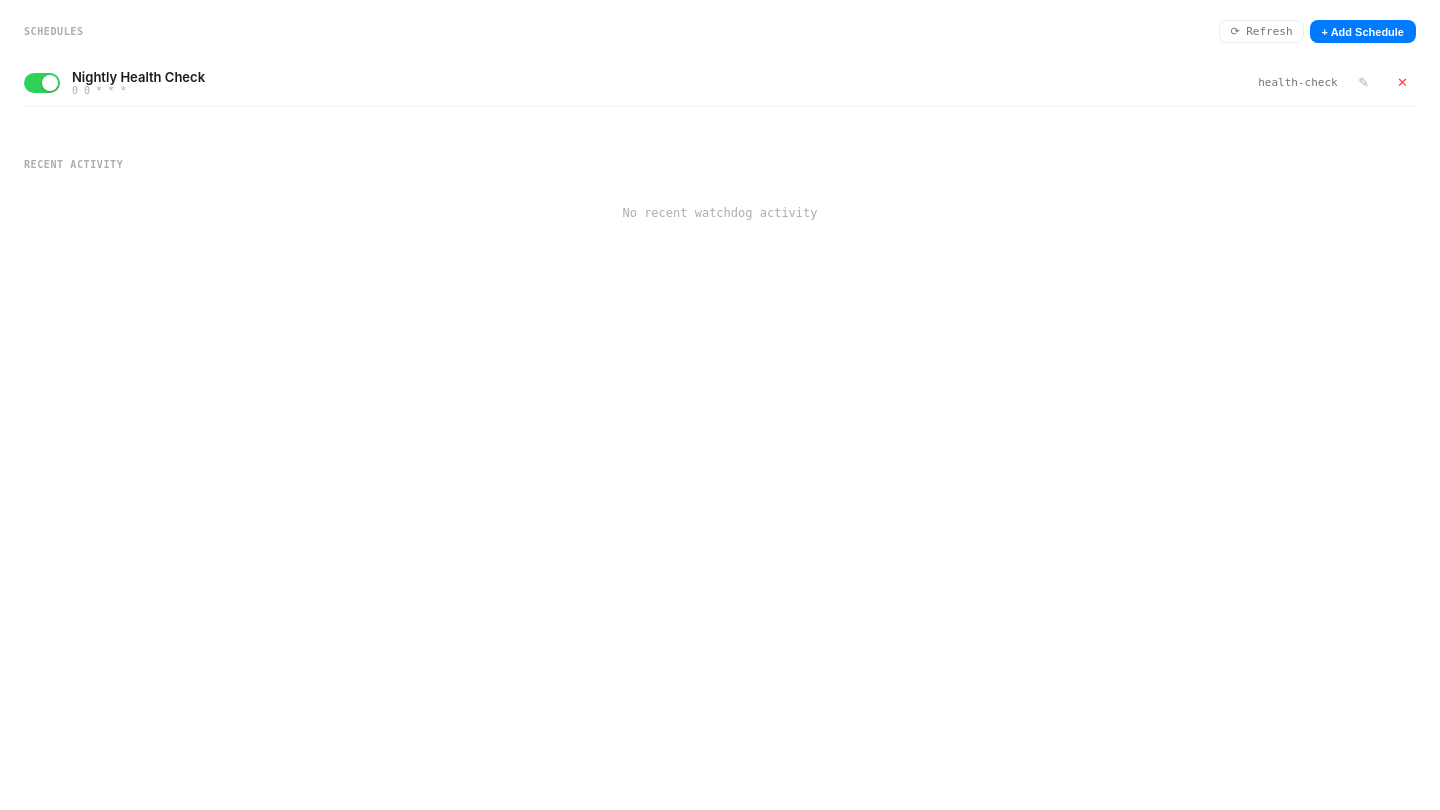
Test: WatchDogPage › cancels delete
Click the button with test id "schedule-delete-s1".
click(1403, 82)  # box [1389,71,1416,94]
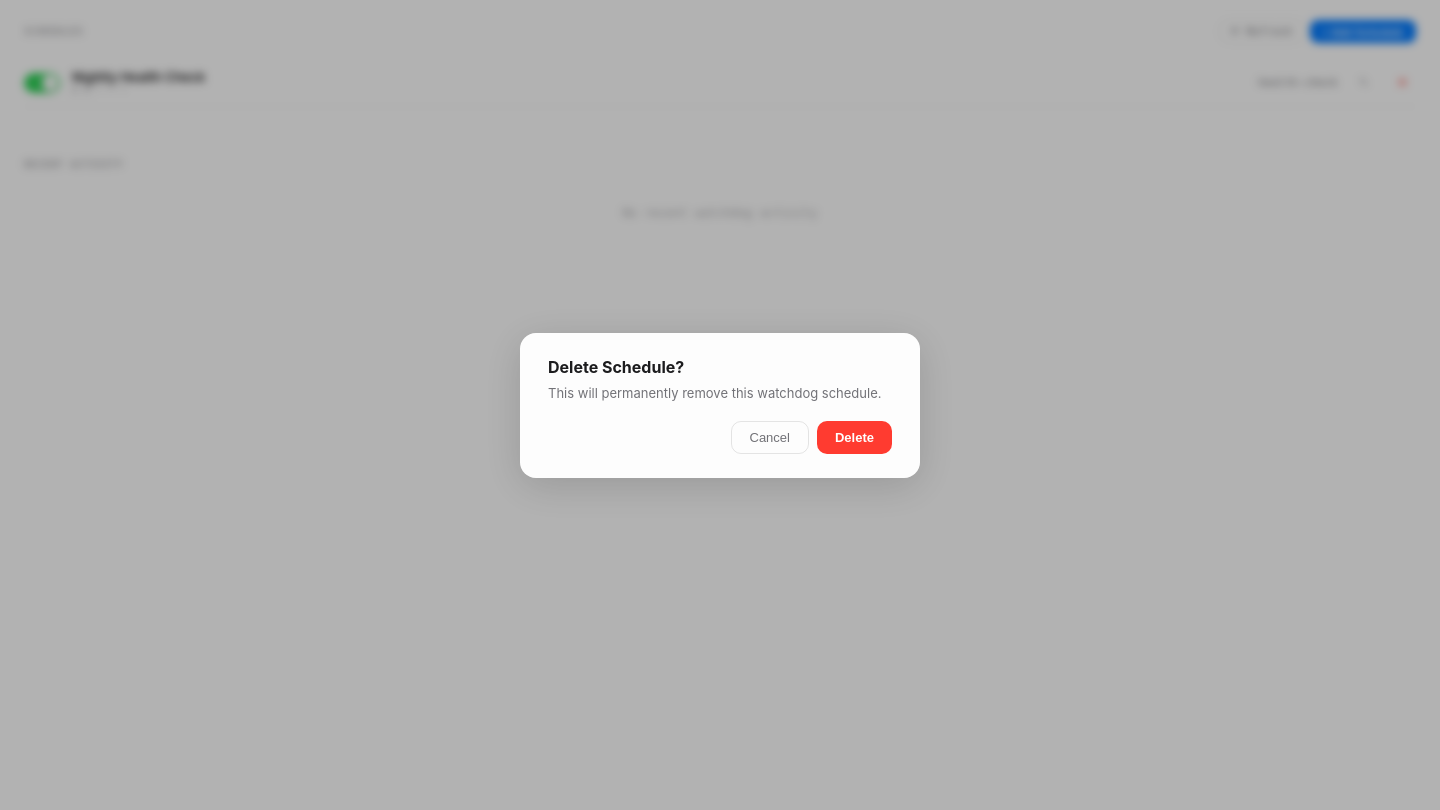
Click the button with test id "delete-cancel-btn".
click(770, 437)  # box [730,420,809,454]
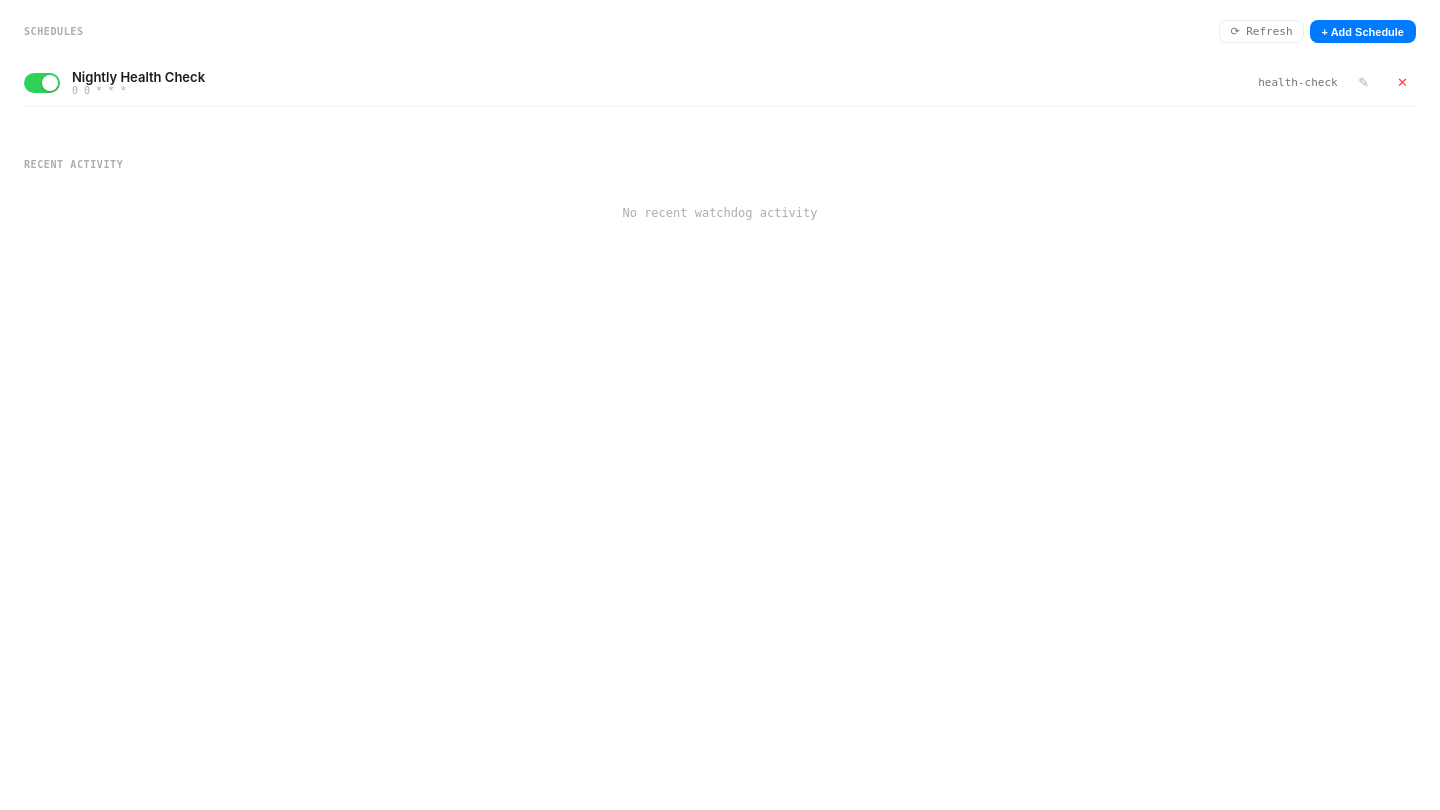
Expected: the element with test id "delete-dialog" is gone
